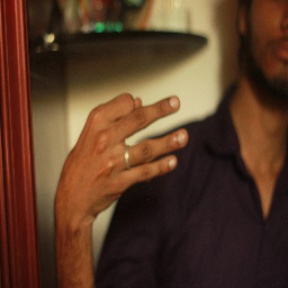K: (63, 91, 192, 202)
